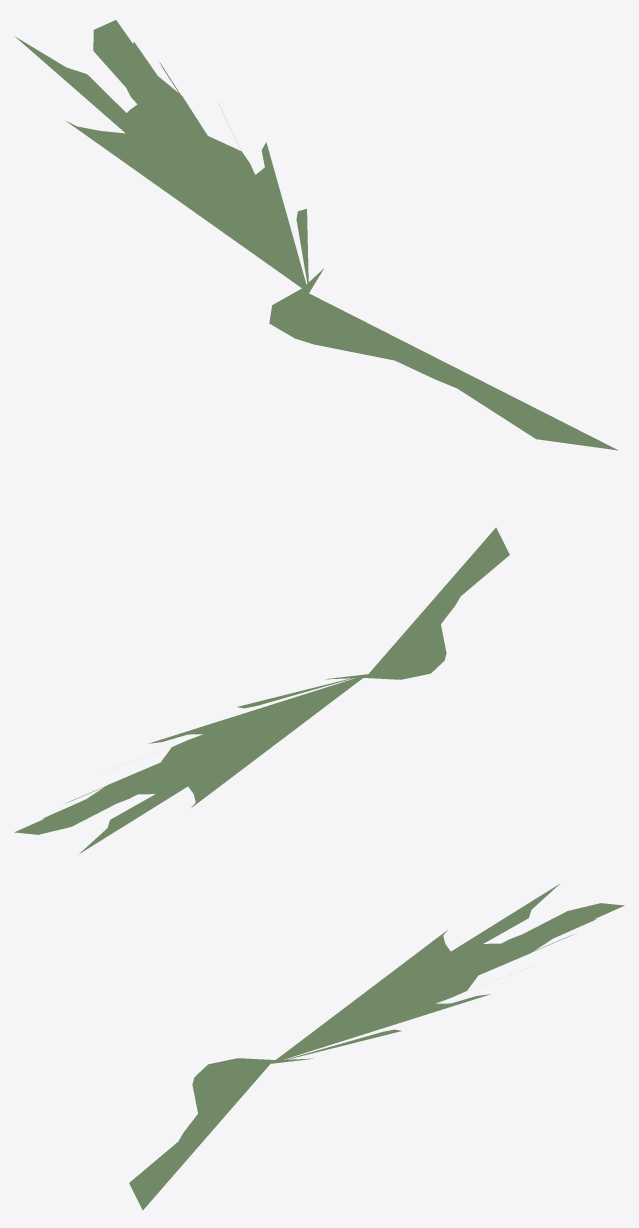
Rendered from c_1645_17819_parks.glb.
The picture shows the model from 3 angles, top to bottom: view 1: azimuth 30°, elevation 25°; view 2: azimuth 150°, elevation 25°; view 3: azimuth 330°, elevation 25°; orthographic projection. The views are drawn at different scales.
Parts seen in each view (by area): view 1: geometry_0; view 2: geometry_0; view 3: geometry_0.
Boxes of the visible parts, box(x1,y1,x2,y2) form: geometry_0: box(14, 20, 618, 450); geometry_0: box(14, 527, 509, 853); geometry_0: box(129, 884, 624, 1210).
Size of the model in its own units: 346 by 0 by 1481.
